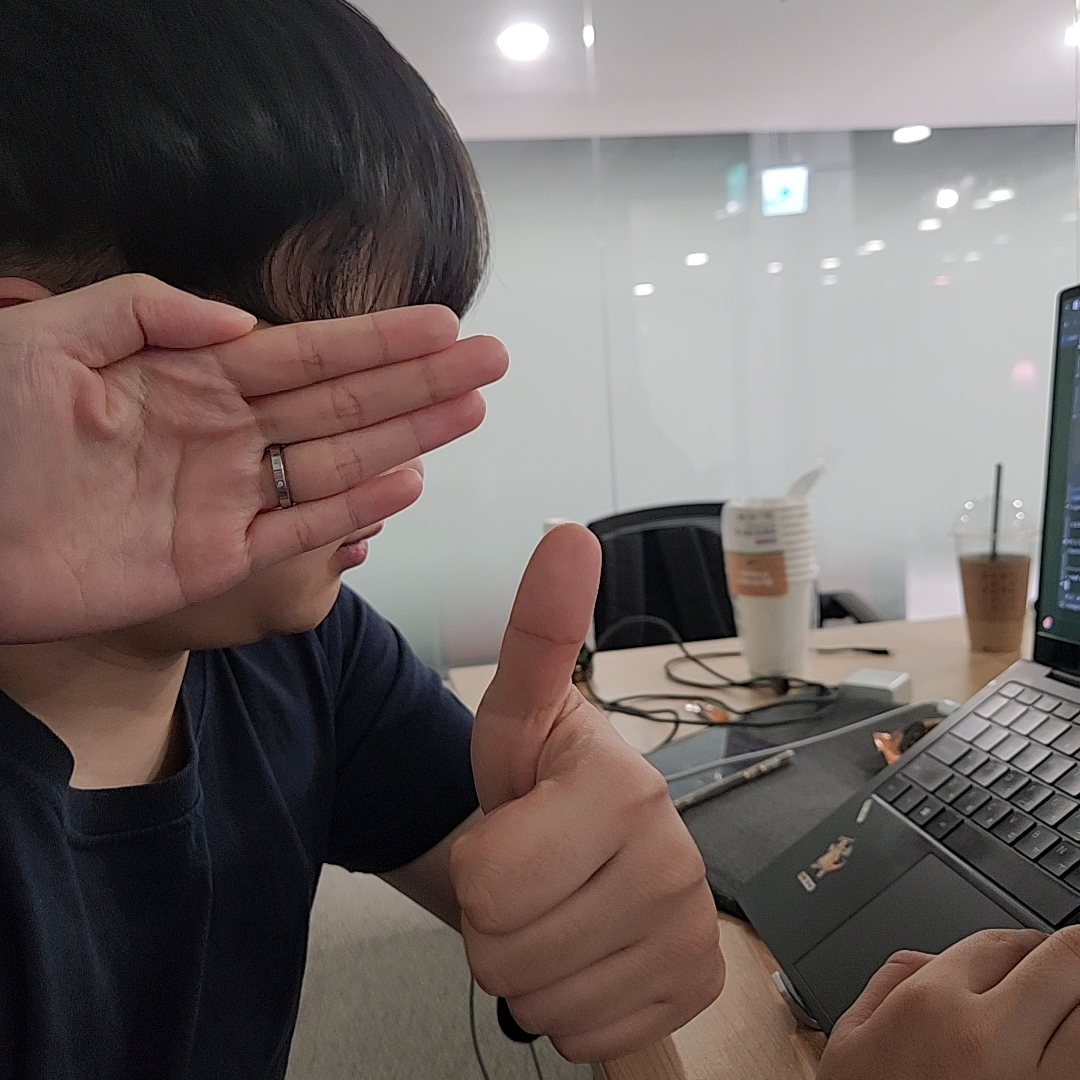best: (454, 523, 728, 1066)
